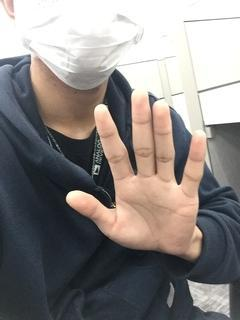hand: (66, 86, 207, 262)
